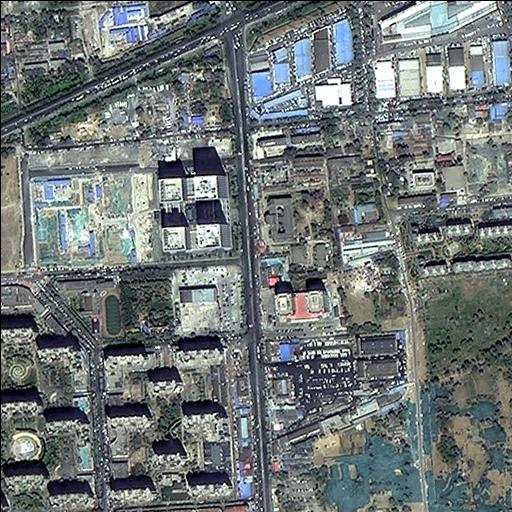school: (40, 273, 124, 343), (389, 125, 434, 163)
